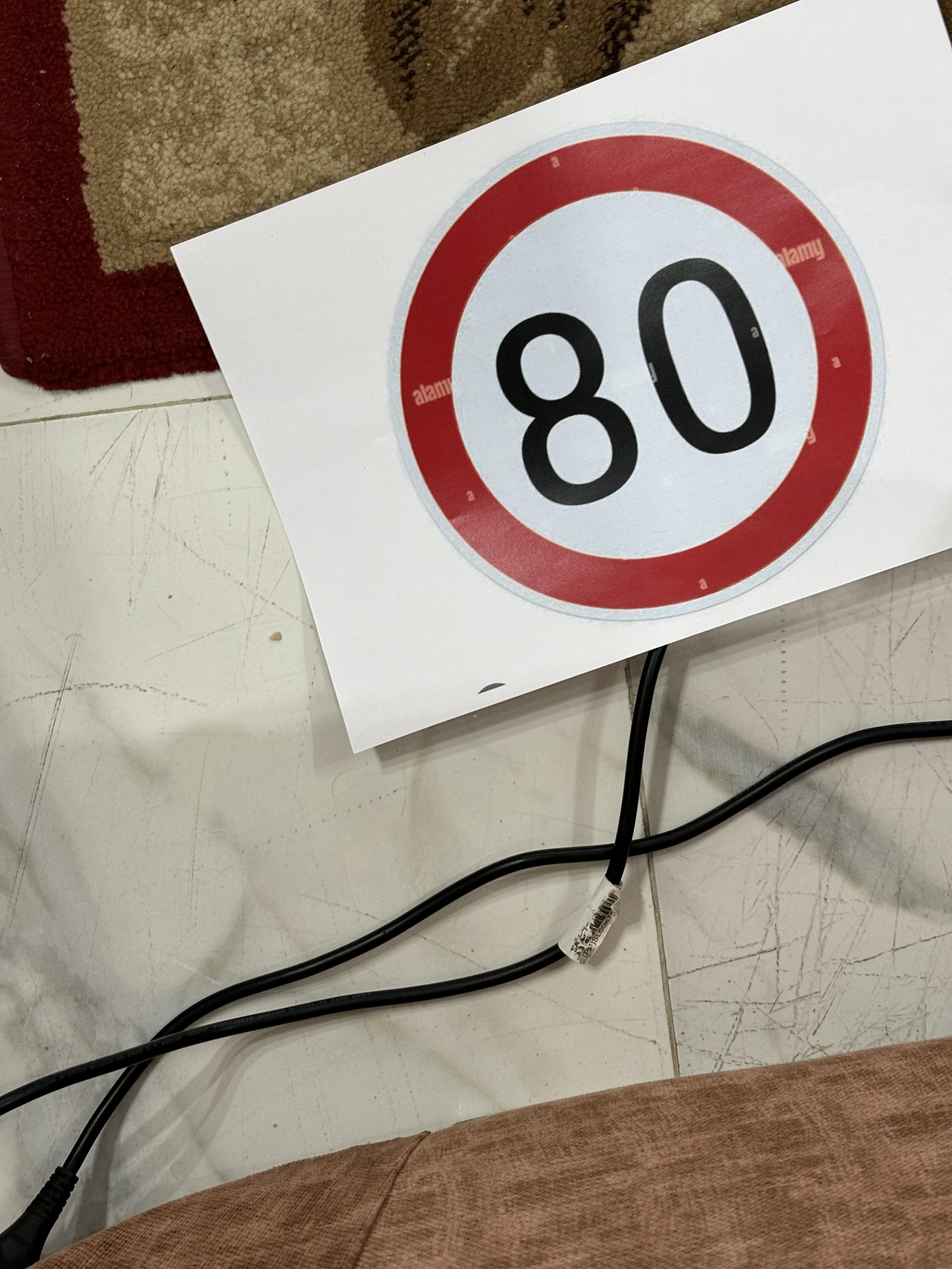80-Speed: (397, 117, 886, 623)
